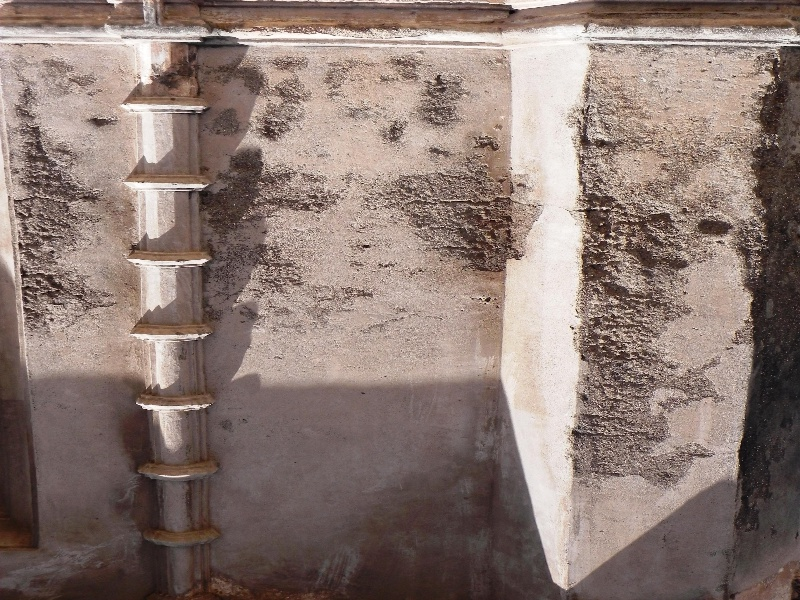Spalling: (573, 67, 724, 492), (11, 69, 113, 338), (392, 130, 545, 280)
